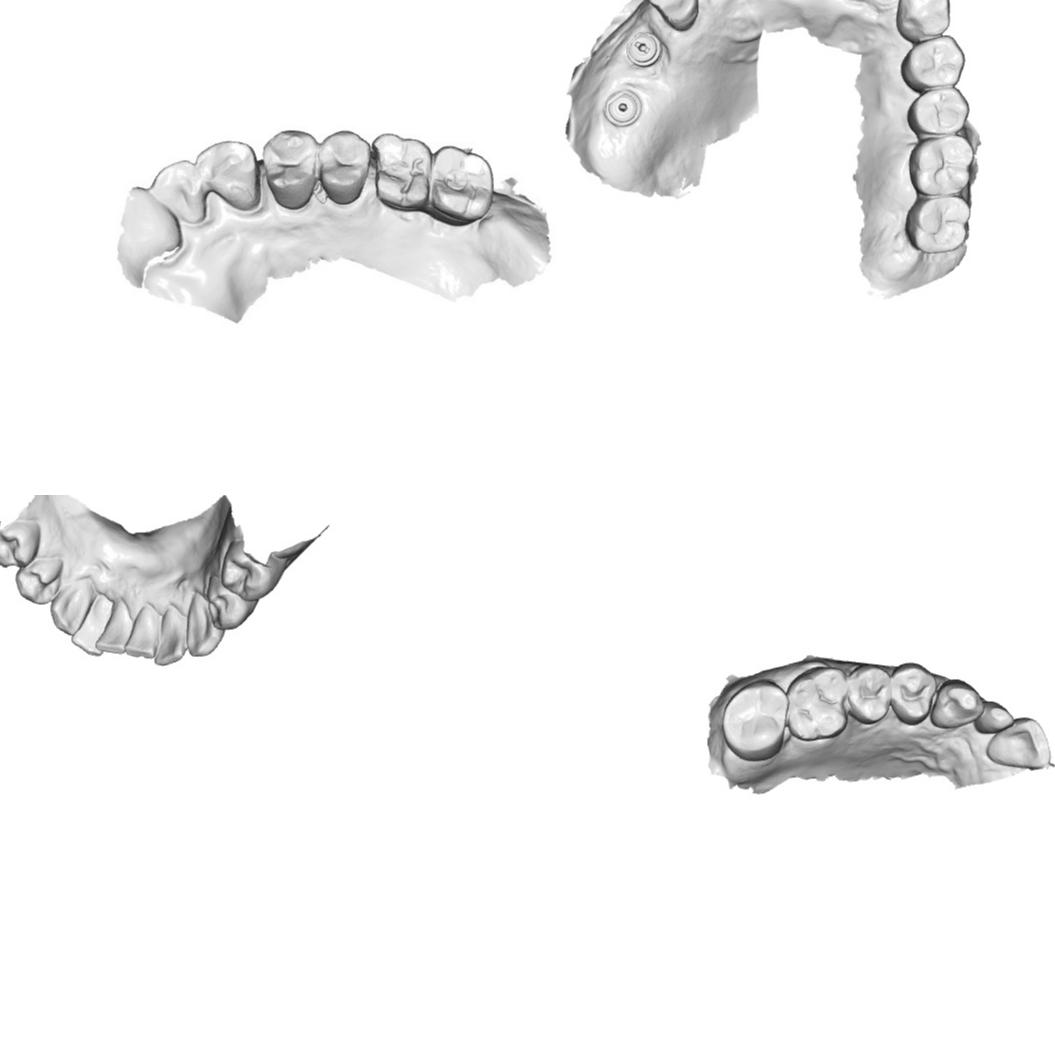canine: (201, 137, 266, 217), (47, 574, 100, 637), (929, 677, 986, 730), (184, 590, 226, 657), (895, 0, 951, 43)
implant: (603, 90, 642, 127)
implant_minus: (626, 31, 662, 67)
incisor: (148, 160, 216, 230), (984, 715, 1052, 770), (69, 592, 115, 658), (151, 604, 188, 666), (94, 599, 134, 656), (123, 601, 158, 660), (974, 698, 1014, 736)
molar: (719, 676, 788, 763), (429, 145, 496, 230), (783, 664, 850, 742), (372, 134, 431, 215), (908, 134, 974, 196), (903, 196, 970, 254)
premolar: (315, 123, 370, 211), (264, 131, 318, 219), (220, 537, 286, 601), (900, 35, 965, 94), (888, 660, 938, 728), (906, 86, 970, 138), (204, 571, 260, 630), (848, 662, 891, 726), (13, 555, 66, 606), (0, 518, 44, 569), (646, 0, 698, 31)
